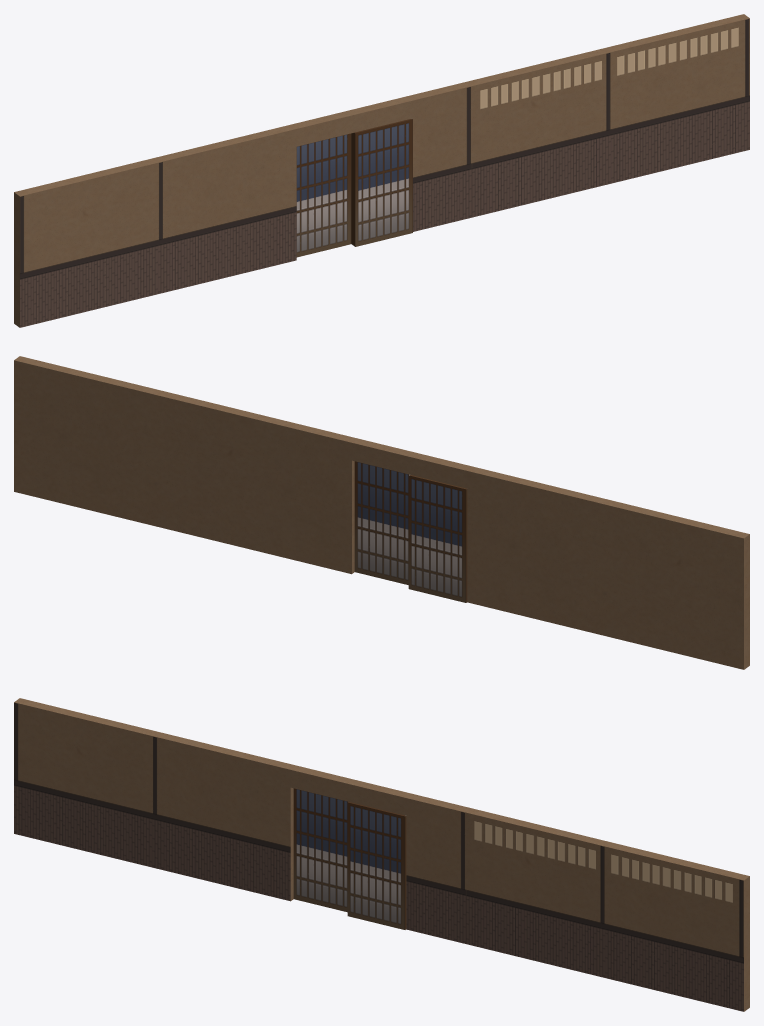
Rendered from SM_Wall_Mid.fbx.
3 renders of one model, top to bottom at view 1: azimuth 30°, elevation 25°; view 2: azimuth 150°, elevation 25°; view 3: azimuth 330°, elevation 25°, orthographic.
Parts seen in each view (by area): view 1: pCube1, pCube2; view 2: pCube1, pCube2; view 3: pCube1, pCube2.
Part boxes in pixels (x1,y1,x2,y2): pCube1: [14, 14, 749, 327]; pCube2: [296, 118, 412, 257]; pCube1: [14, 356, 749, 669]; pCube2: [354, 461, 467, 602]; pCube1: [14, 698, 749, 1011]; pCube2: [293, 788, 406, 929].
Size of the model in its own units: 2150 by 370 by 40.
